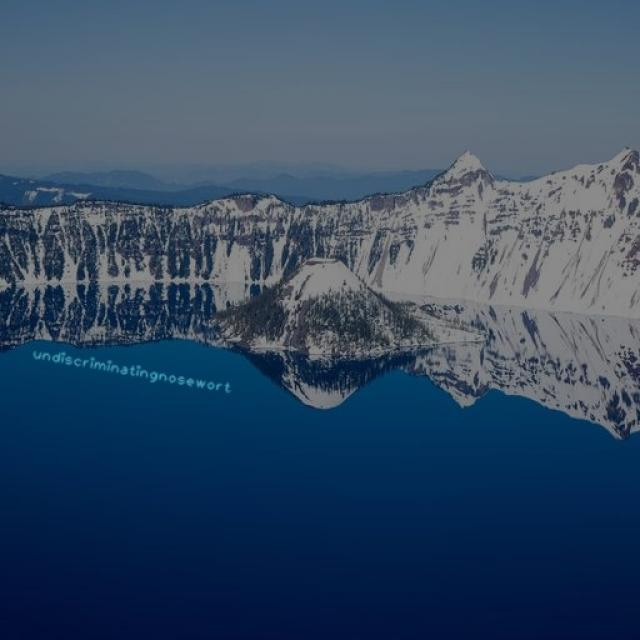watermark: (27, 346, 239, 394)
